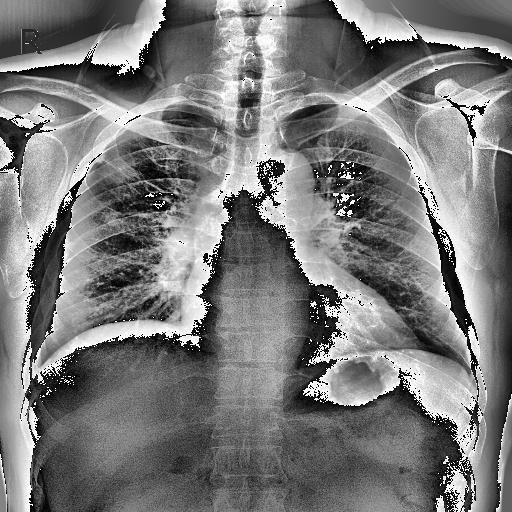0- Aortic enlargement: (258, 146, 314, 229), (257, 146, 316, 220)
13- Pulmonary fibrosis: (96, 151, 166, 219), (100, 157, 140, 189), (100, 154, 140, 183)
3- Cardiomegaly: (182, 272, 424, 356), (180, 294, 422, 360)
